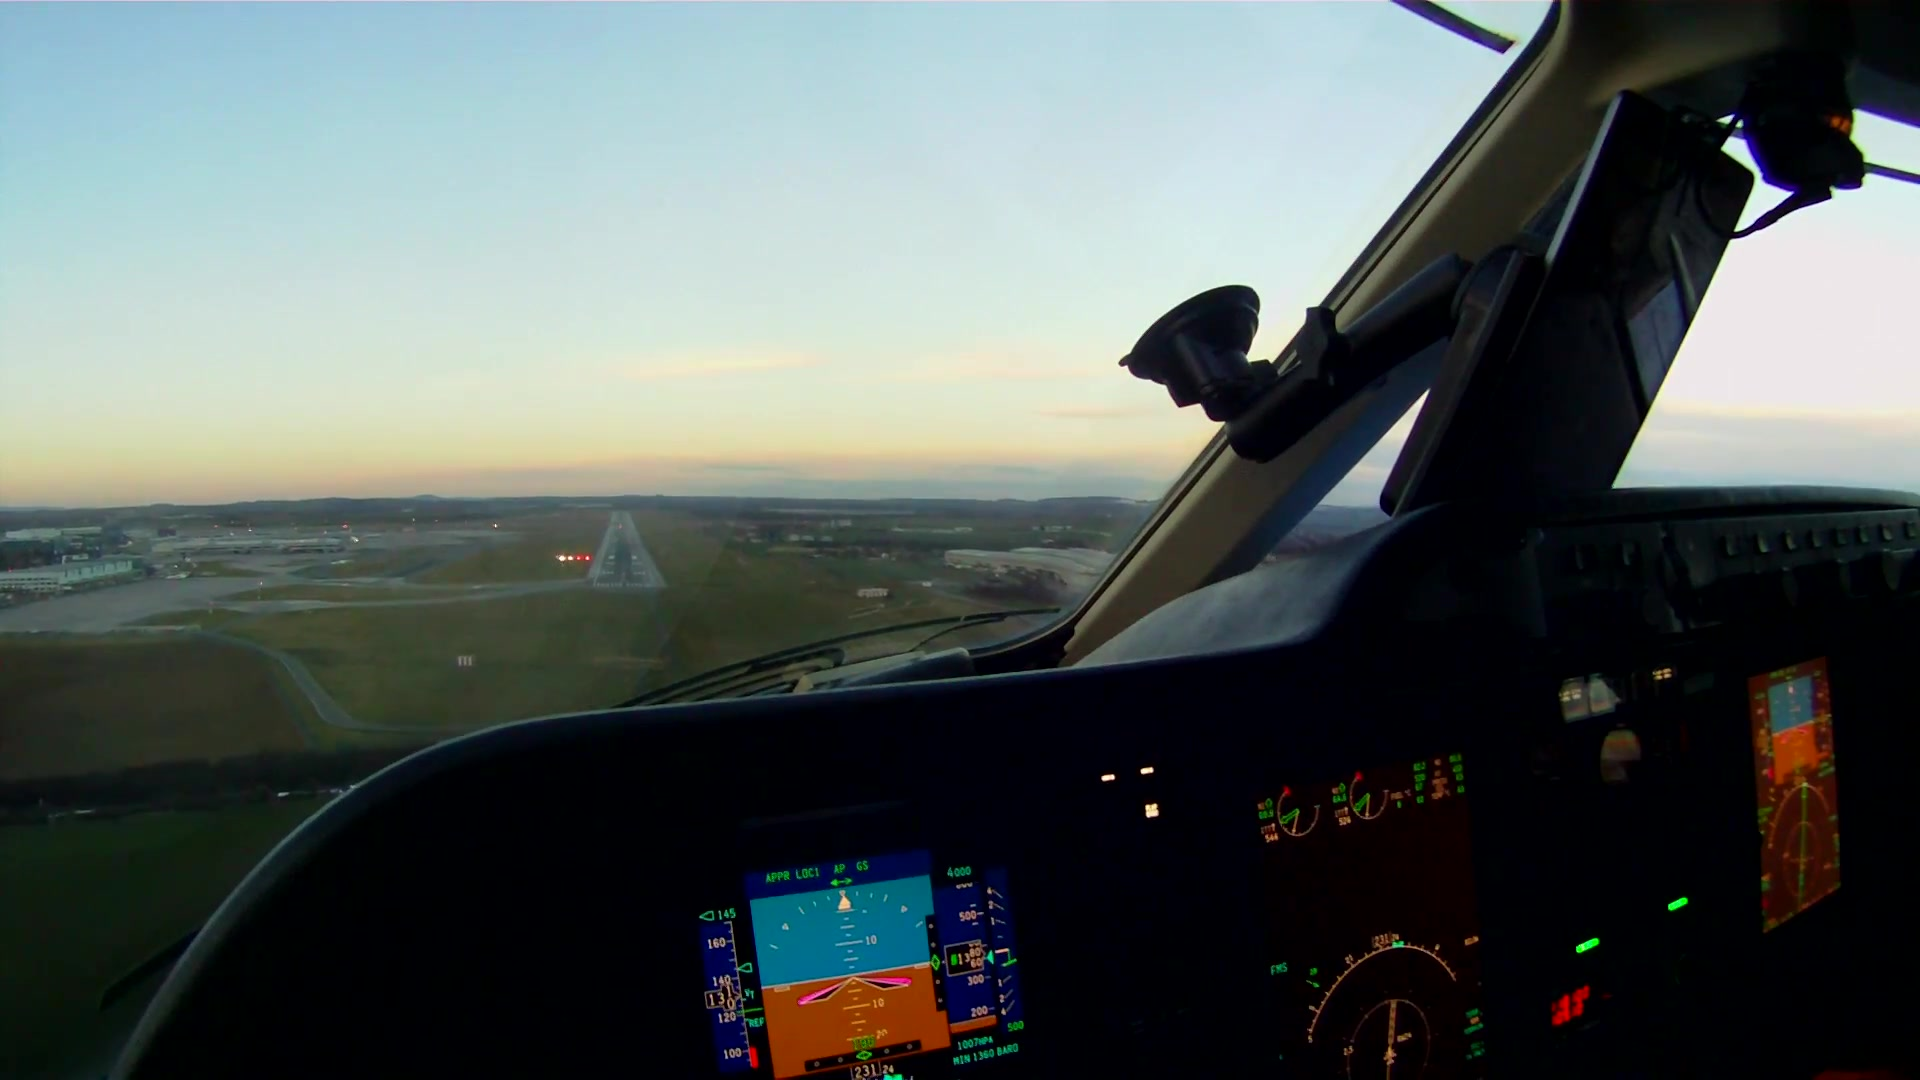entrance: (597, 582, 655, 588)
runway: (585, 510, 665, 589)
